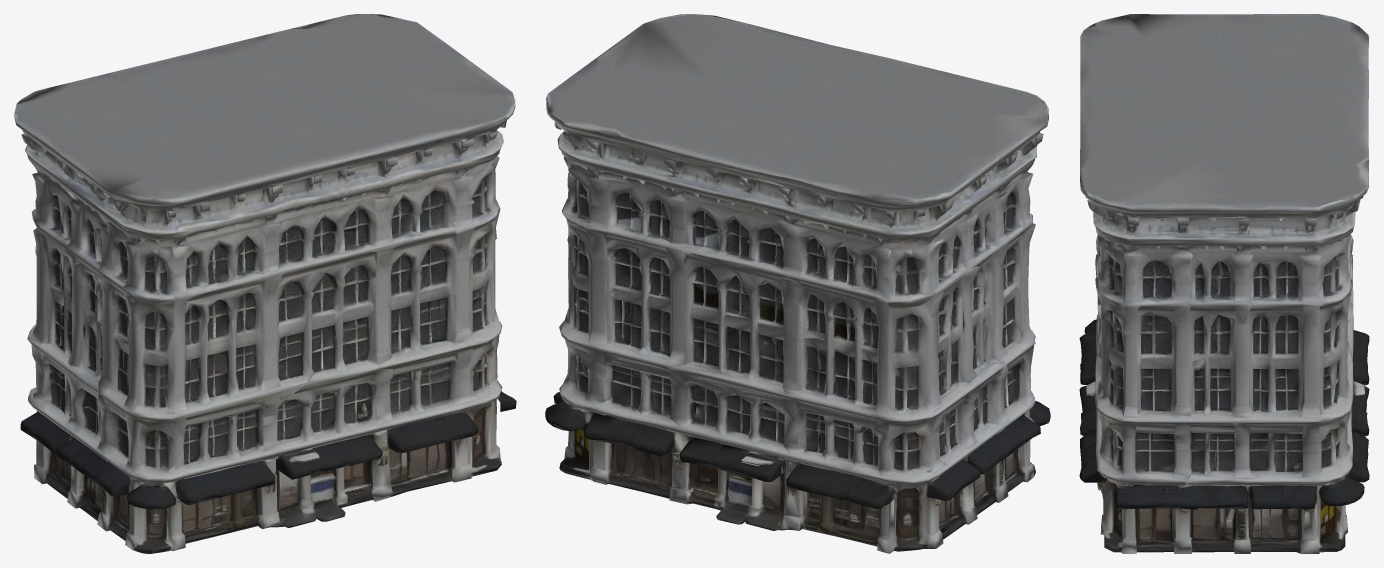
Rendered from bld4_hi.glb.
3 views of the same model, side by side, from view 1: azimuth 30°, elevation 25°; view 2: azimuth 150°, elevation 25°; view 3: azimuth 270°, elevation 25° (orthographic). The views are drawn at different scales.
Visible parts, largest first — view 1: tripo_node_0c721832-740a-4888-9d9b-e6df3341be9a; view 2: tripo_node_0c721832-740a-4888-9d9b-e6df3341be9a; view 3: tripo_node_0c721832-740a-4888-9d9b-e6df3341be9a.
Boxes of the visible parts, bbox=[...] form: tripo_node_0c721832-740a-4888-9d9b-e6df3341be9a: bbox=[14, 14, 516, 553]; tripo_node_0c721832-740a-4888-9d9b-e6df3341be9a: bbox=[545, 14, 1050, 553]; tripo_node_0c721832-740a-4888-9d9b-e6df3341be9a: bbox=[1079, 14, 1369, 553].
Bounding box in the file's own units: 0.9996 × 0.8584 × 0.6349.
1 material, 1 textured.
